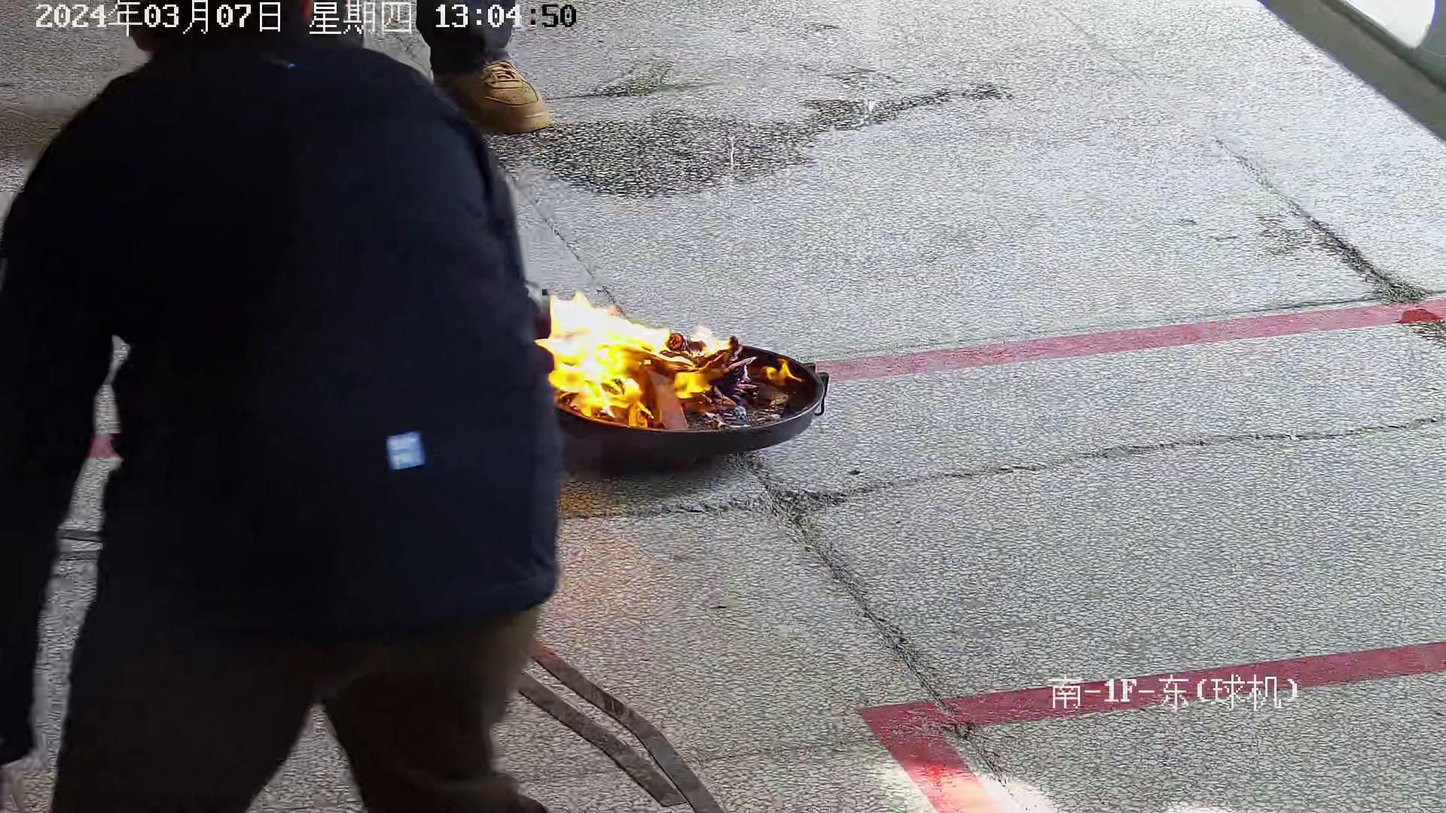fire: (538, 294, 792, 430)
